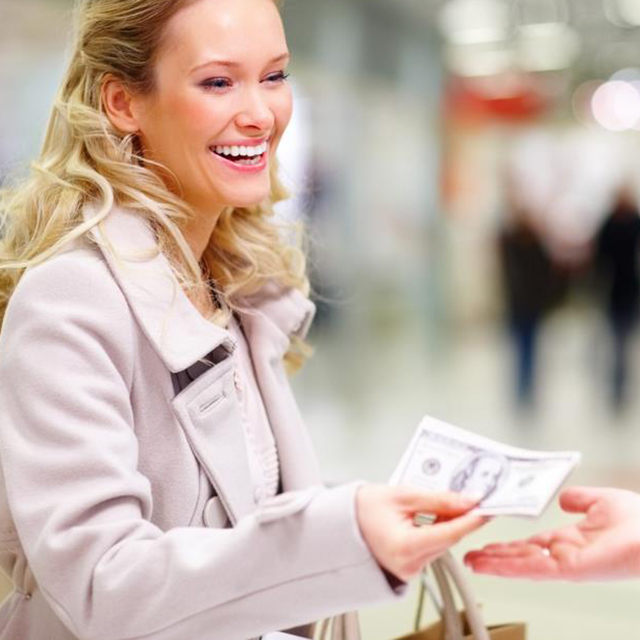banknotes: (391, 413, 583, 516)
